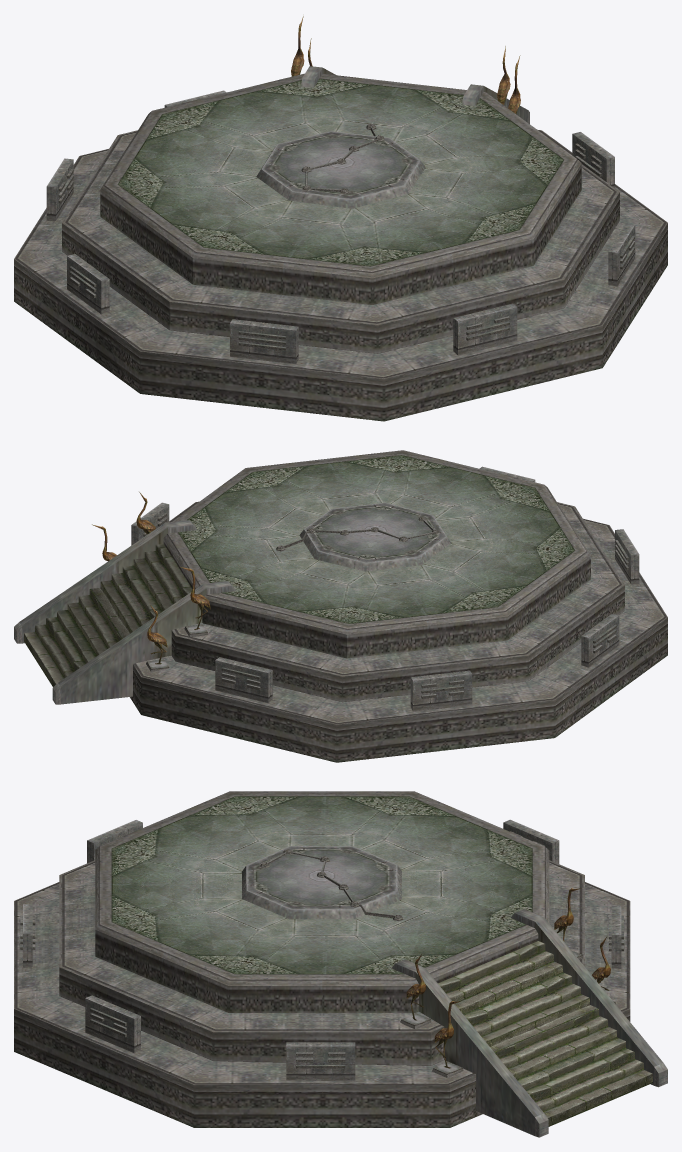
Rendered from lianqizong05c_jz.FBX.
The picture shows the model from 3 angles, top to bottom: view 1: azimuth 30°, elevation 25°; view 2: azimuth 150°, elevation 25°; view 3: azimuth 270°, elevation 25°; orthographic projection. The views are drawn at different scales.
Parts seen in each view (by area): view 1: lianqizong05c_jz_A; view 2: lianqizong05c_jz_A; view 3: lianqizong05c_jz_A.
Part boxes in pixels (x1=…): lianqizong05c_jz_A: x1=14, y1=16, x2=667, y2=421; lianqizong05c_jz_A: x1=14, y1=450, x2=667, y2=762; lianqizong05c_jz_A: x1=14, y1=791, x2=667, y2=1137.
Size of the model in its own units: 1362 by 355 by 1362.
Materials: 1 (1 with a texture image).
